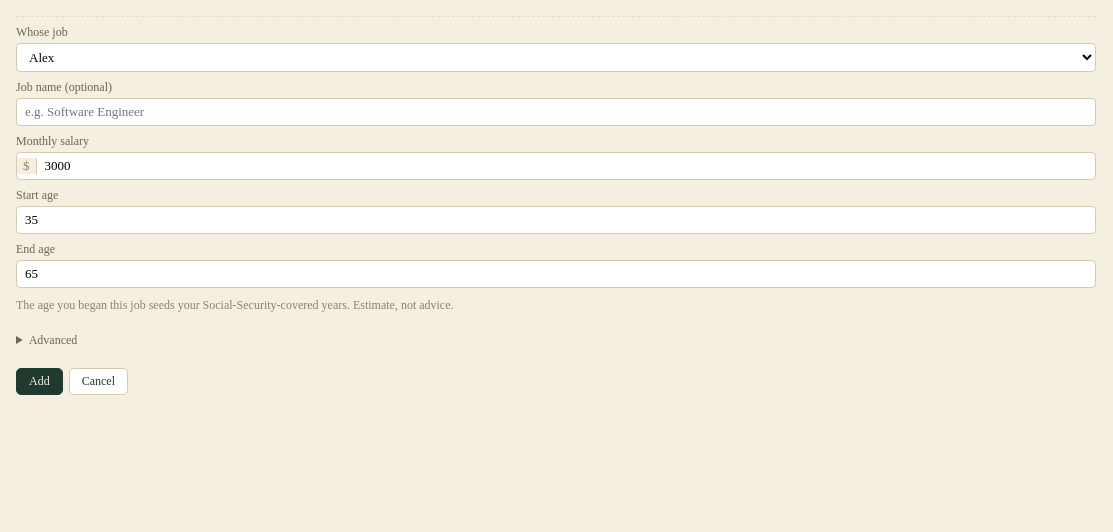
JobForm — the owner picker resets start age › resets a MANUALLY EDITED start age too, discarding the previous owner's value
Replace the text in the number field labelled "Start age" with "20" at (556, 220), box [17,207,1095,233]
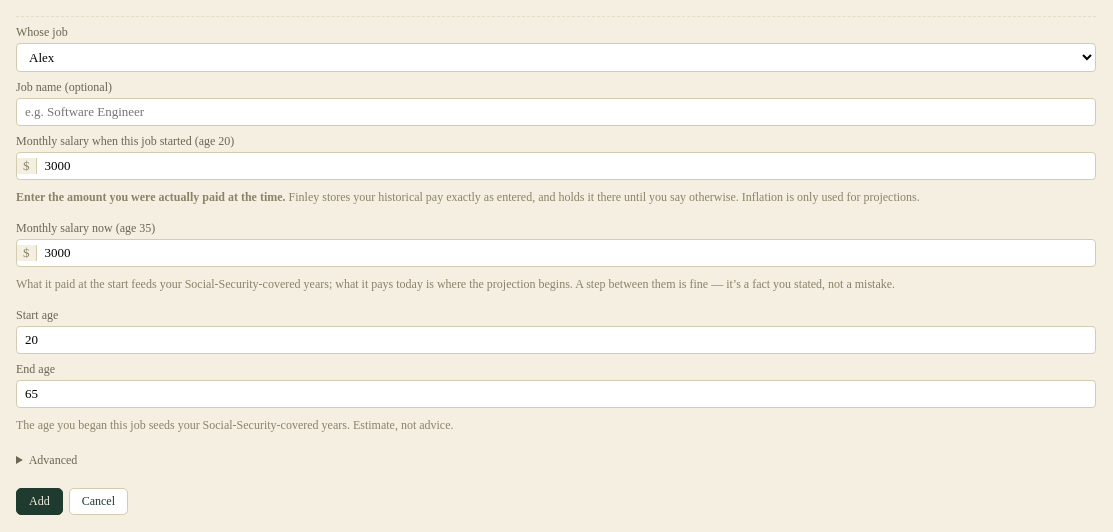
Select "Sam" in the dropdown labelled "Whose job" at (556, 58), box [16,43,1096,72]
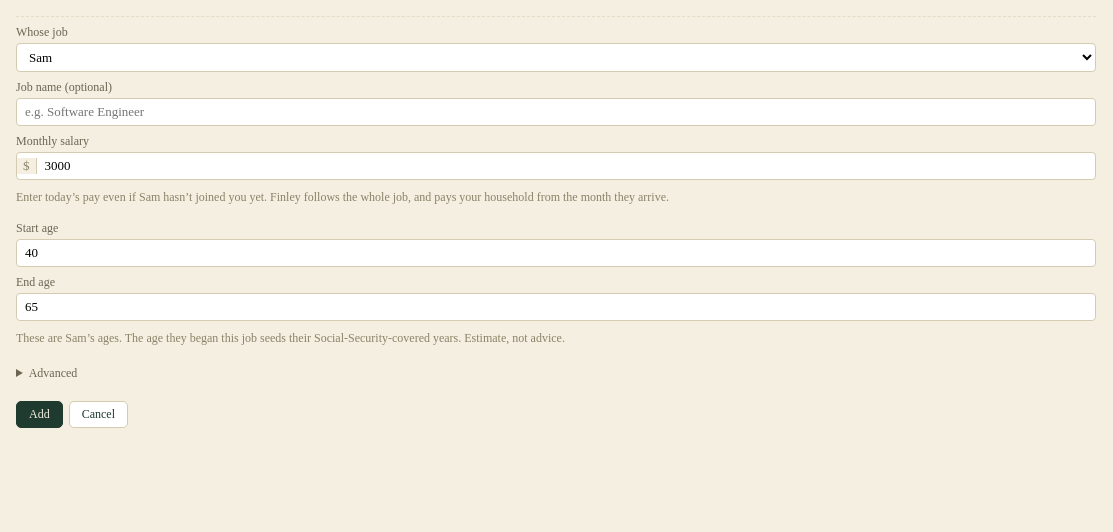
Check: the number field labelled "Start age" holds "40", box [17,240,1095,266]
